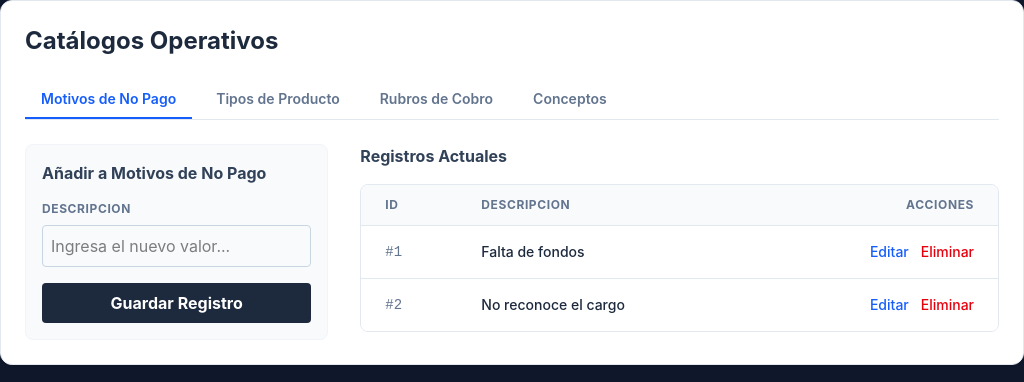
Test: CatalogosManager: lectura › informa cuando el catalogo esta vacio
The width and height of the screenshot is (1024, 382).
Expected: the text "Falta de fondos" is shown, [457,226,759,278]
Click the button "Rubros de Cobro". click: point(436, 100)
box: [364,81,509,119]
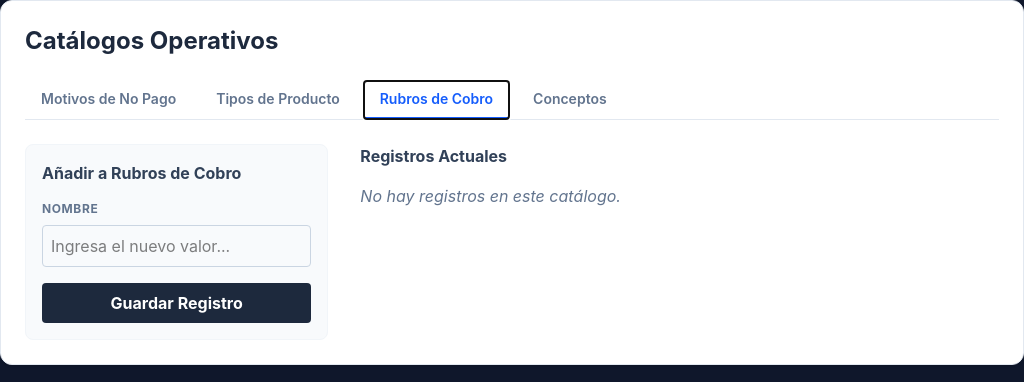
Result: the text "No hay registros en este catálogo." is shown at [360,186,621,206]
